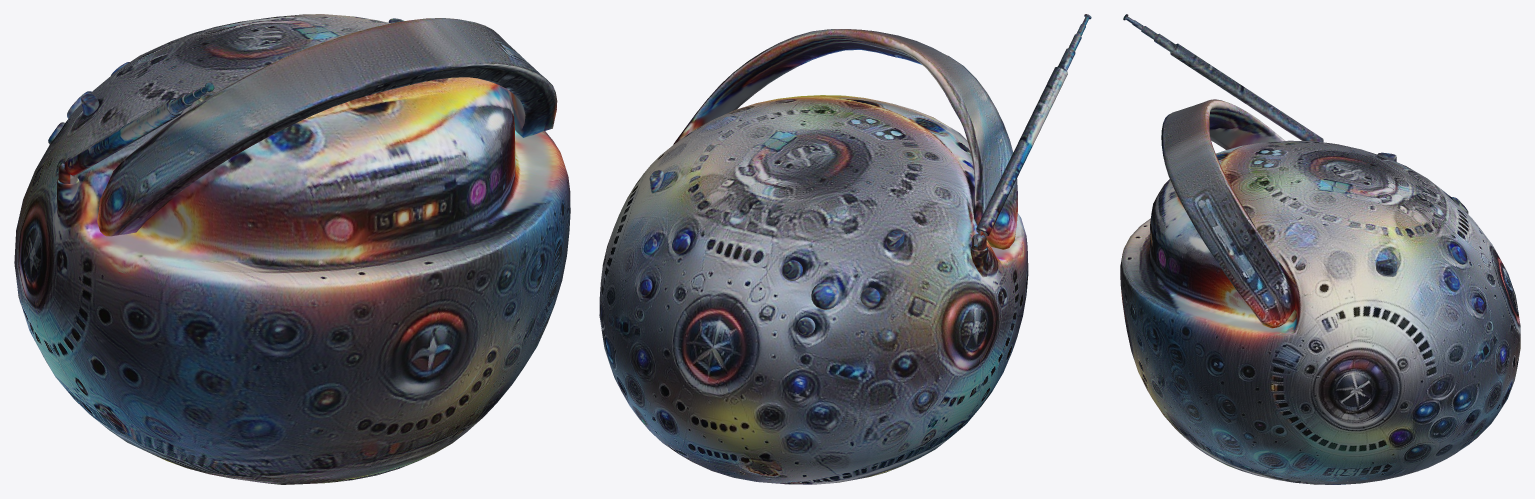
The model's file is boom_box.glb.
3 renders of one model, left to right at view 1: azimuth 30°, elevation 25°; view 2: azimuth 150°, elevation 25°; view 3: azimuth 270°, elevation 25°, orthographic. The views are drawn at different scales.
Size of the model in its own units: 0.9846 by 0.9698 by 1.
Materials: 1 (1 with a texture image).
